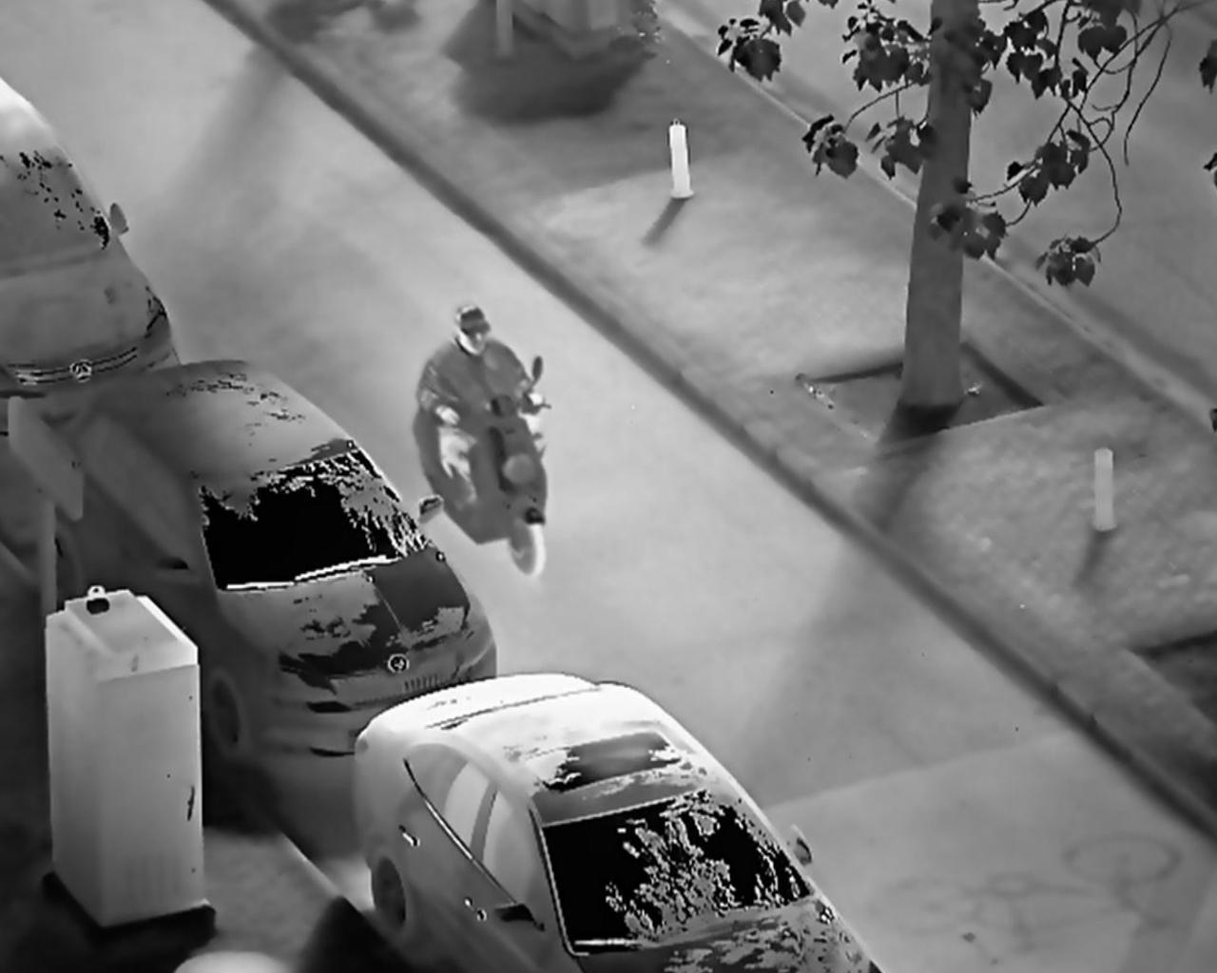person: (416, 301, 548, 528)
